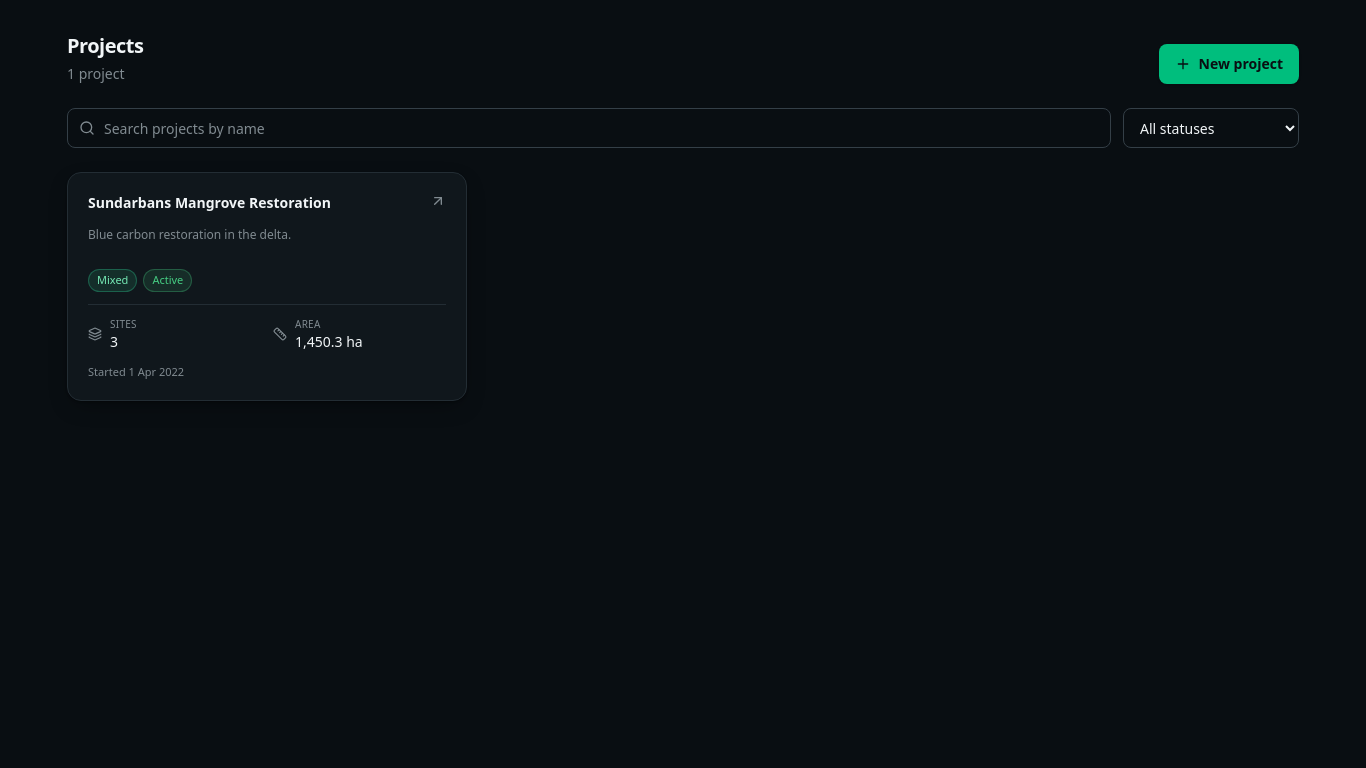
Test: DashboardPage › opens the create-project dialog
Check: the heading "Sundarbans Mangrove Restoration" is shown, box [88,193,331,213]
Click the button "New project" at (1229, 64), box [1159,44,1299,84]
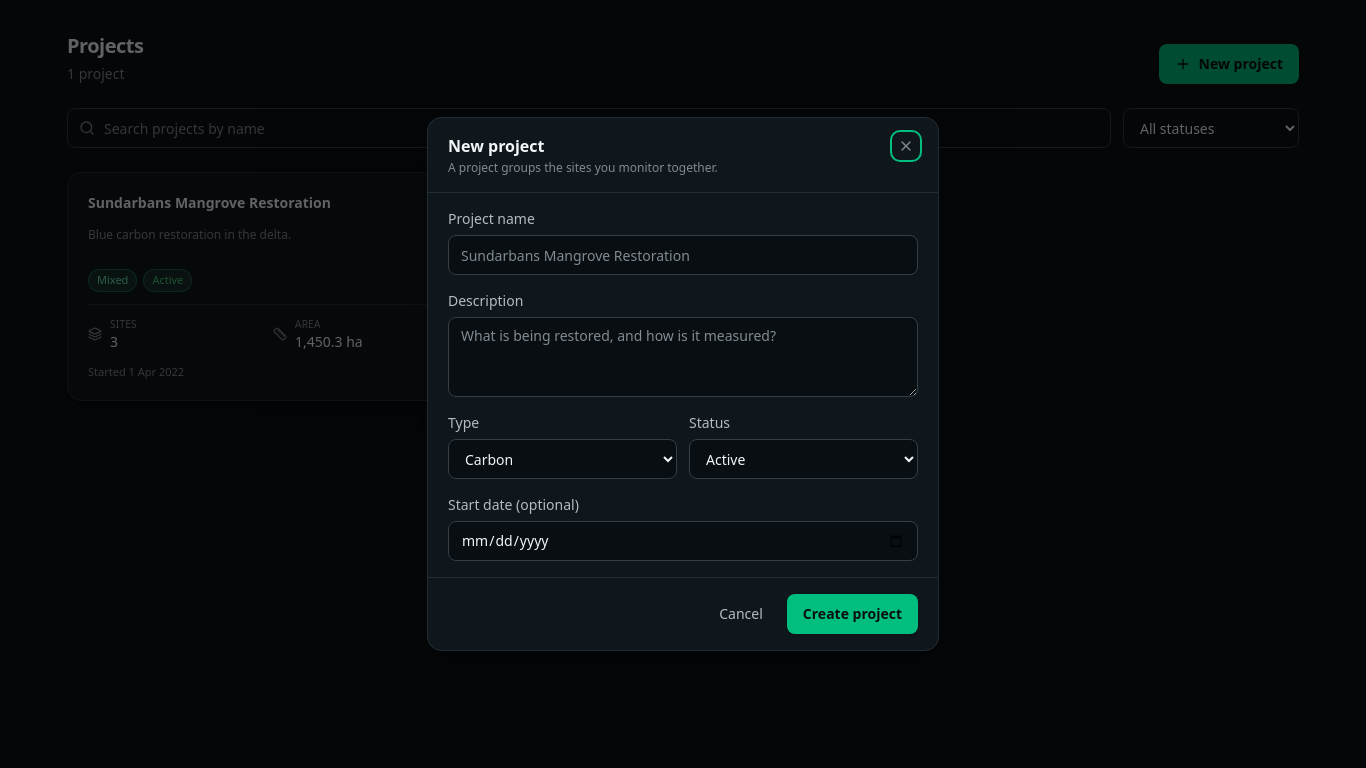
Check: the heading "New project" is shown, box [448,135,544,157]
Check: the field labelled "Project name" is shown, box [448,235,918,275]
